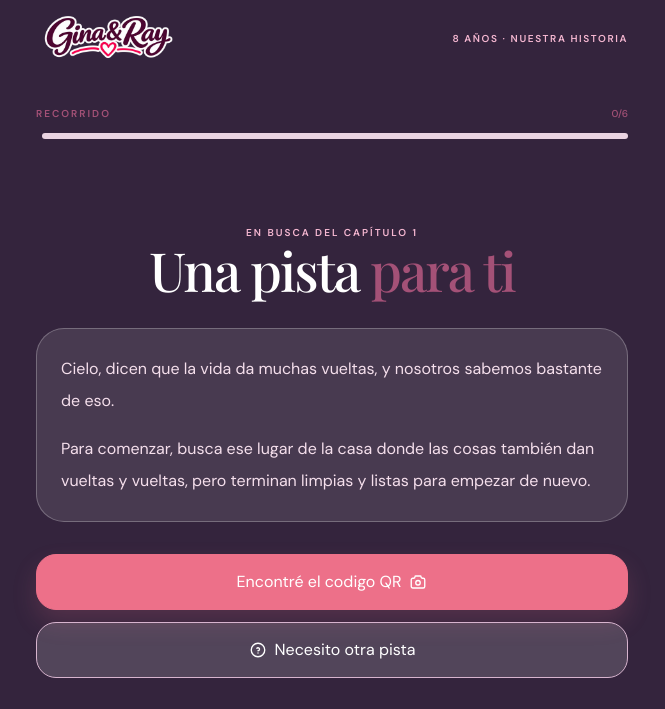
journey pages › only navigates between hints that have already been revealed
Click the button "Necesito otra pista". click: (332,650)
box: [36,622,628,678]
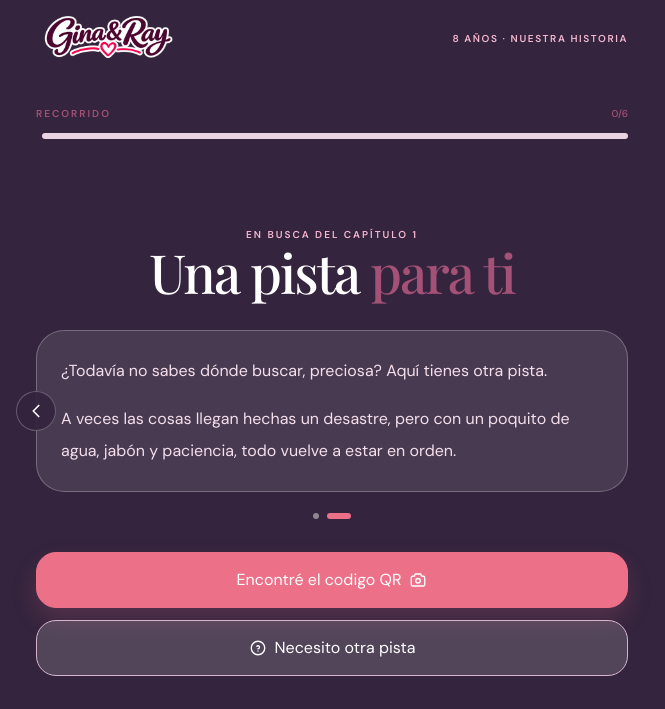
expect the button named "Ver pista anterior" is enabled: met
Click the button named "Ver pista anterior". click: (36,411)
box: [16,391,56,431]
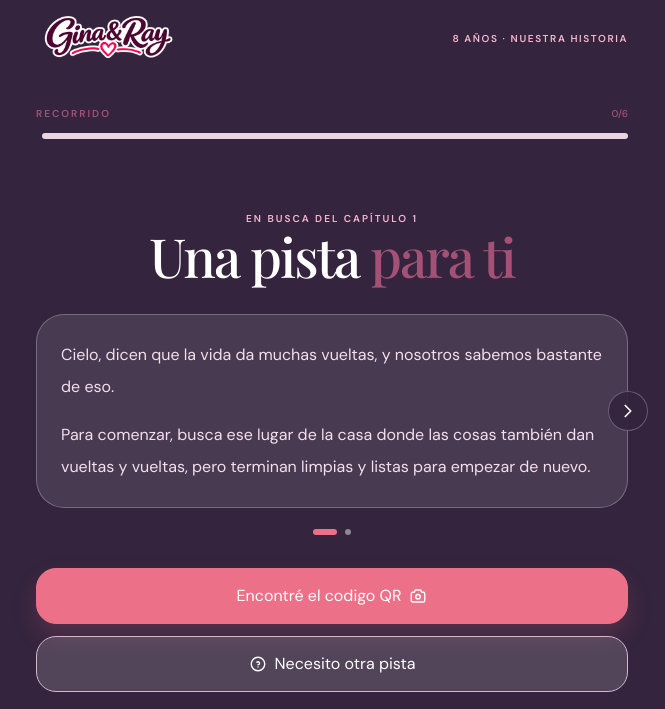
expect the text "Cielo, dicen que la vida da muchas vueltas" is shown: met, box [61,344,602,397]
Click the button "Necesito otra pista". click: (332,664)
box: [36,636,628,692]
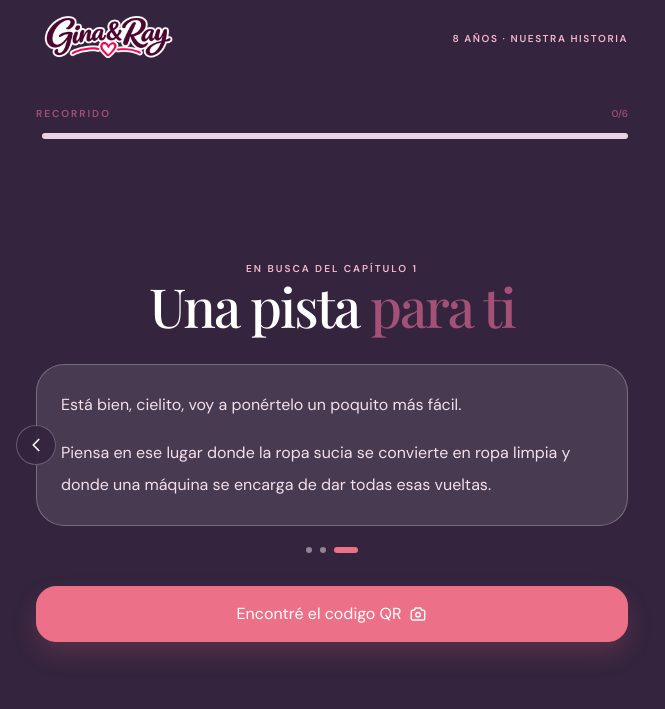
Click the button named "Ver pista anterior". click: (36,445)
box: [16,425,56,465]
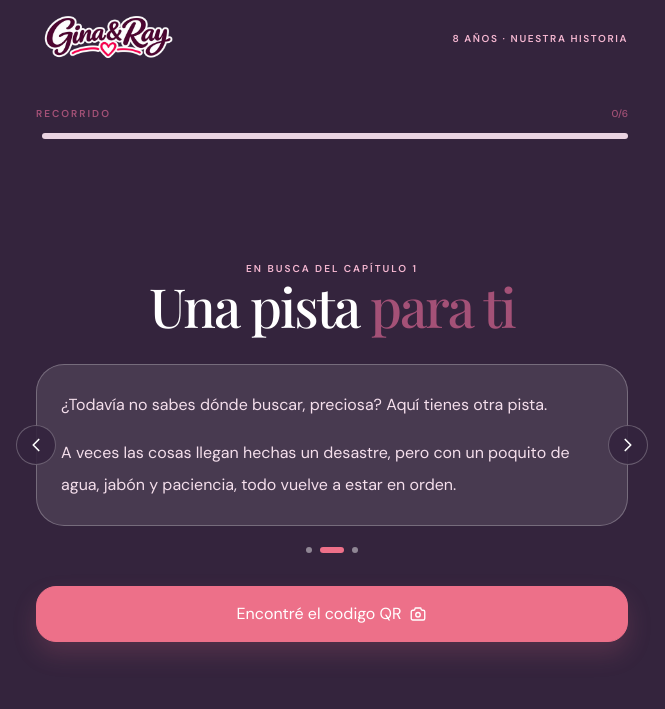
Click the button named "Ver pista siguiente". click: (628,445)
box: [608,425,648,465]
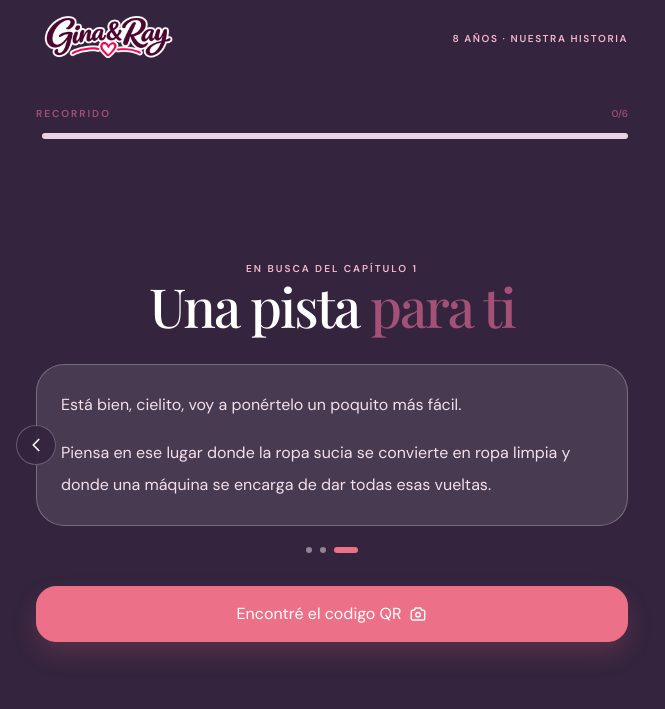
expect the text "Piensa en ese lugar donde la ropa sucia" is shown: met, box [61,442,570,495]
